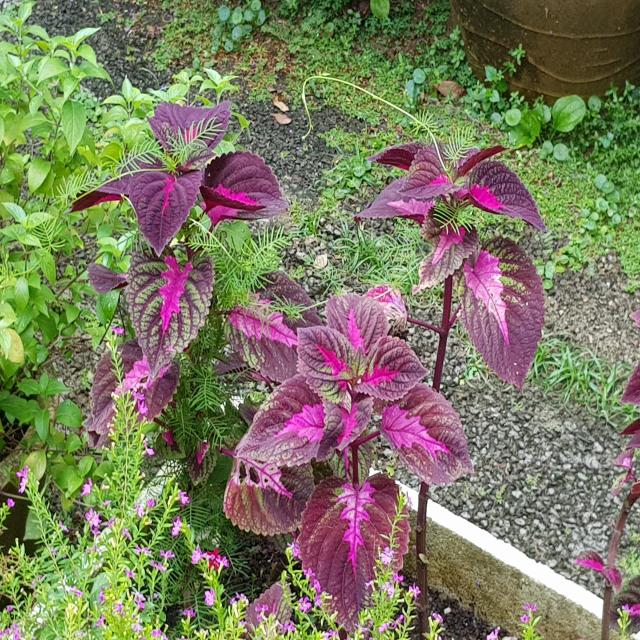Coleus: (225, 246, 419, 597), (91, 77, 277, 418), (381, 125, 548, 386)
